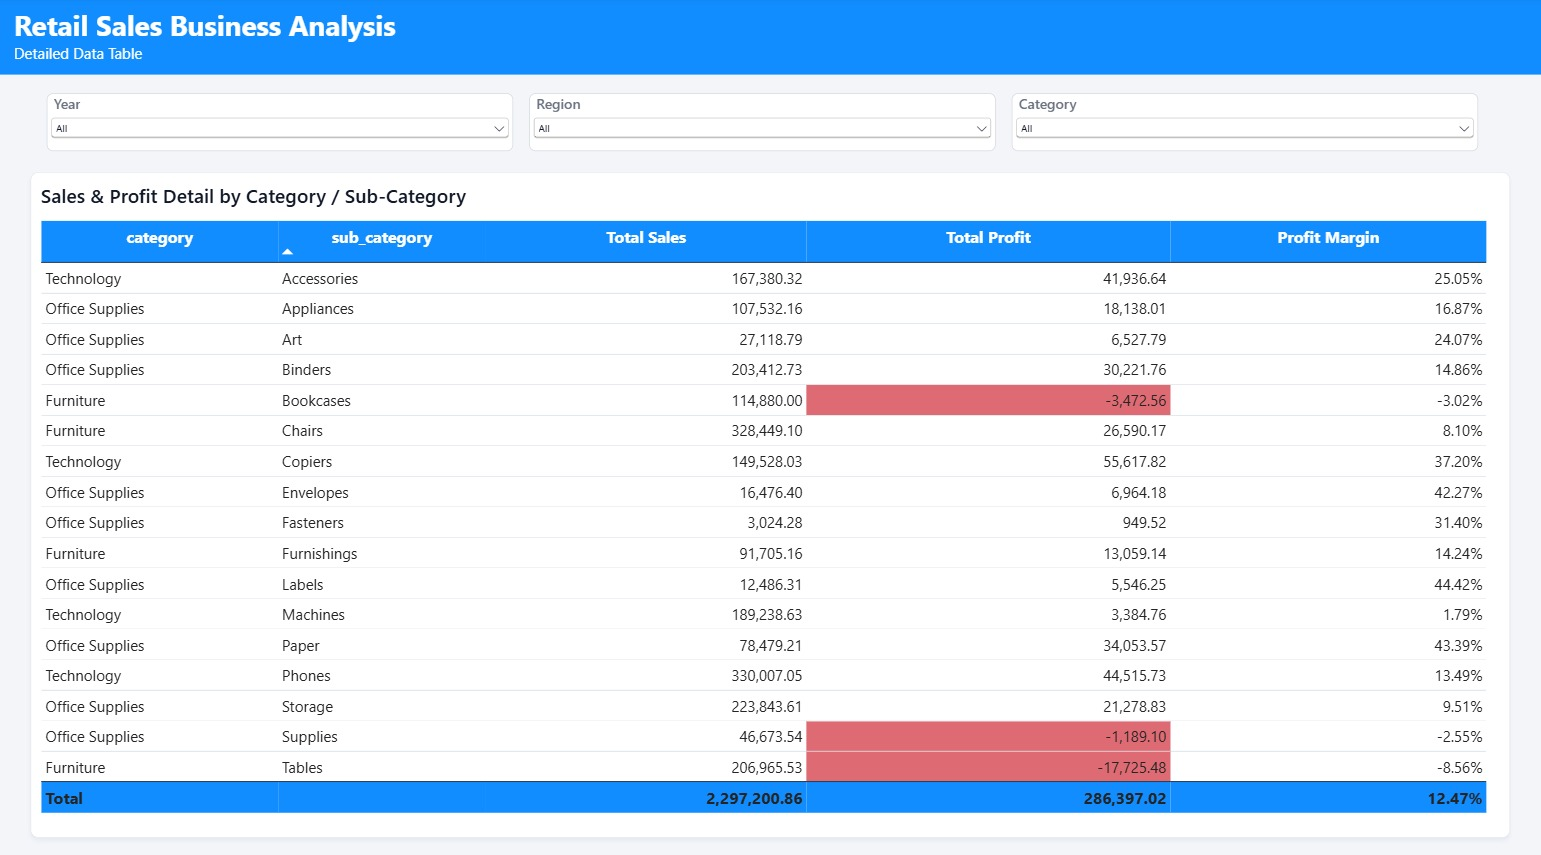

Layout of this report page (visuals, bound fields, positions):
{"tool":"powerbi","page":{"name":"Data Detail","canvas":[1920,1080],"ordinal":3},"visuals":[{"type":"shape","box":[0,0,1920,92],"z":0},{"type":"shape","box":[0,92,1920,5],"z":1000},{"type":"textbox","box":[0,0,1920,91.7],"z":2000},{"type":"shape","box":[40,112,1840,88],"z":3000},{"type":"slicer","fields":{"Values":["superstore superstore_sales.order_date.Variation.Date Hierarchy.Year"]},"box":[60,120,580,72],"z":4000},{"type":"slicer","fields":{"Values":["superstore superstore_sales.region"]},"box":[660,120,580,72],"z":5000},{"type":"slicer","fields":{"Values":["superstore superstore_sales.category"]},"box":[1260,120,580,72],"z":6000},{"type":"tableEx","title":"Sales & Profit Detail by Category / Sub-Category","fields":{"Values":["superstore superstore_sales.category","superstore superstore_sales.sub_category","superstore superstore_sales.Total Sales","superstore superstore_sales.Total Profit","superstore superstore_sales.Profit Margin"]},"box":[40,218,1840,828],"z":7000}]}

Visuals, with their boxes in screenshot pixels (x1, y1, x2, y2), scaled from the page's 1920x1080 canvas onto the 1541x855 screenshot:
shape: {"x1": 0, "y1": 0, "x2": 1540, "y2": 73}
shape: {"x1": 0, "y1": 73, "x2": 1540, "y2": 77}
textbox: {"x1": 0, "y1": 0, "x2": 1540, "y2": 73}
shape: {"x1": 32, "y1": 89, "x2": 1509, "y2": 158}
slicer - superstore superstore_sales.order_date.Variation.Date Hierarchy.Year: {"x1": 48, "y1": 95, "x2": 514, "y2": 152}
slicer - superstore superstore_sales.region: {"x1": 530, "y1": 95, "x2": 995, "y2": 152}
slicer - superstore superstore_sales.category: {"x1": 1011, "y1": 95, "x2": 1477, "y2": 152}
"Sales & Profit Detail by Category / Sub-Category" tableEx: {"x1": 32, "y1": 173, "x2": 1509, "y2": 828}
